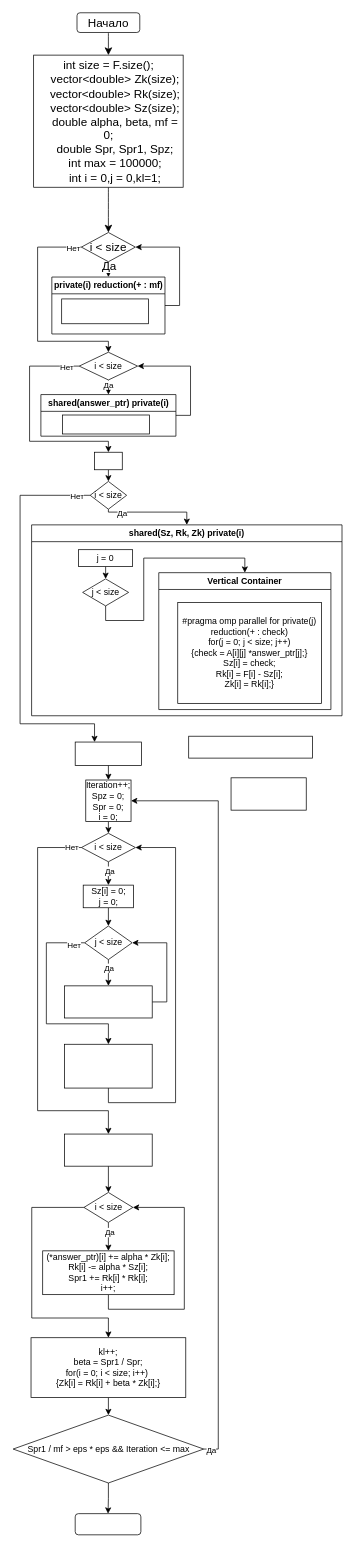
This 355x1548 diagram has some shape labels left out. The shapes that lost their labels are listed below. From the top down, each one's centre as x and y in pixels, then its label:
[105,311]: mf += F[i] * F[i]; i++;
[105,424]: (*answer_ptr)[i] = 0.2; i++;
[108,461]: i = 0;
[108,753]: int Iteration = 0;
[250,746]: Sz[i] += A[i][j] * (*answer_ptr)[j]; j++;
[268,793]: Rk[i] = F[i] - Sz[i]; Zk[i] = Rk[i]; i++;
[108,1001]: Sz[i] += A[i][j] * Zk[j]; j++;
[108,1066]: Spz += Sz[i] * Zk[i]; Spr += Rk[i] * Rk[i]; i++;
[108,1149]: alpha = Spr / Spz; Spr1 = 0; i = 0;
[107,1524]: Конец
